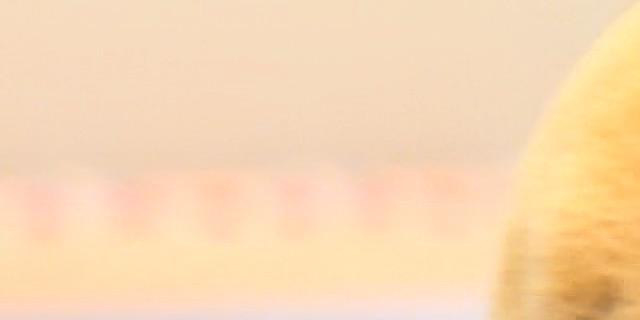burger: (315, 0, 640, 320)
